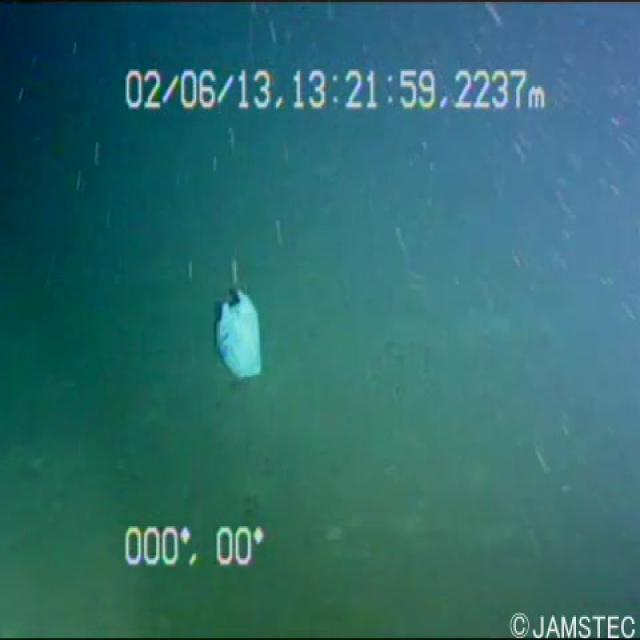plastic: (190, 274, 298, 393)
